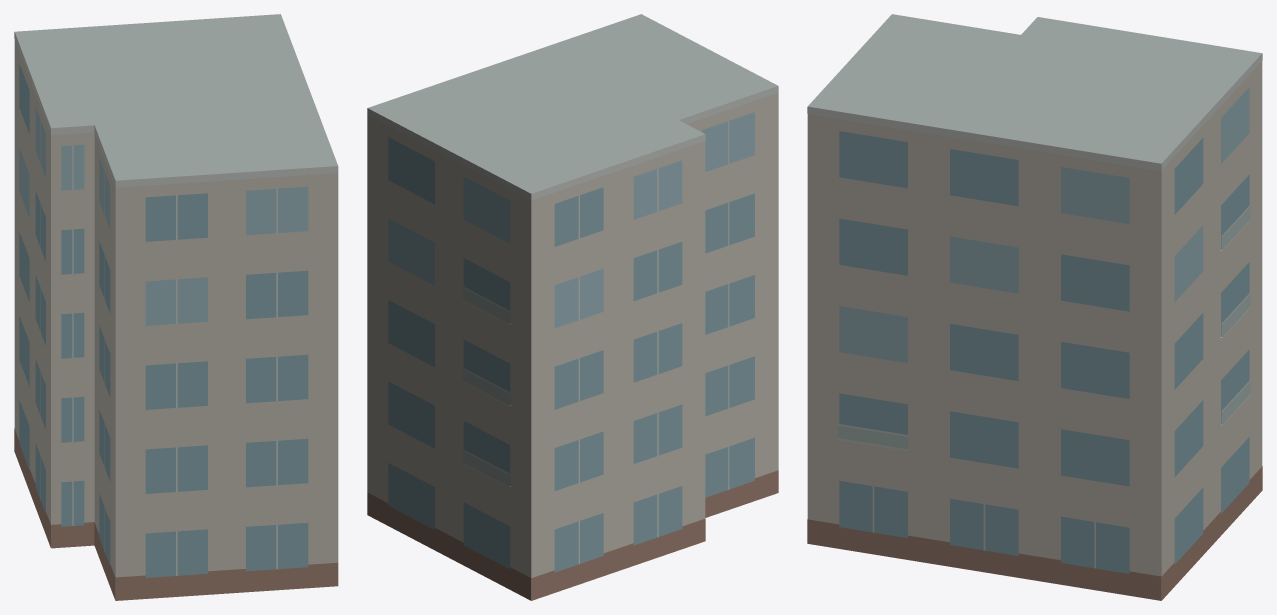
Rendered from survey-upis-32943316.glb.
3 renders of one model, left to right at view 1: azimuth 30°, elevation 25°; view 2: azimuth 150°, elevation 25°; view 3: azimuth 270°, elevation 25°, orthographic. The views are drawn at different scales.
Parts seen in each view (by area): view 1: survey-upis-32943316.tmp; view 2: survey-upis-32943316.tmp; view 3: survey-upis-32943316.tmp.
Boxes of the visible parts, x1=… form: survey-upis-32943316.tmp: x1=14, y1=14, x2=338, y2=600; survey-upis-32943316.tmp: x1=367, y1=14, x2=778, y2=600; survey-upis-32943316.tmp: x1=807, y1=14, x2=1262, y2=600.
Size of the model in its own units: 10.8 by 14.7 by 13.87.
